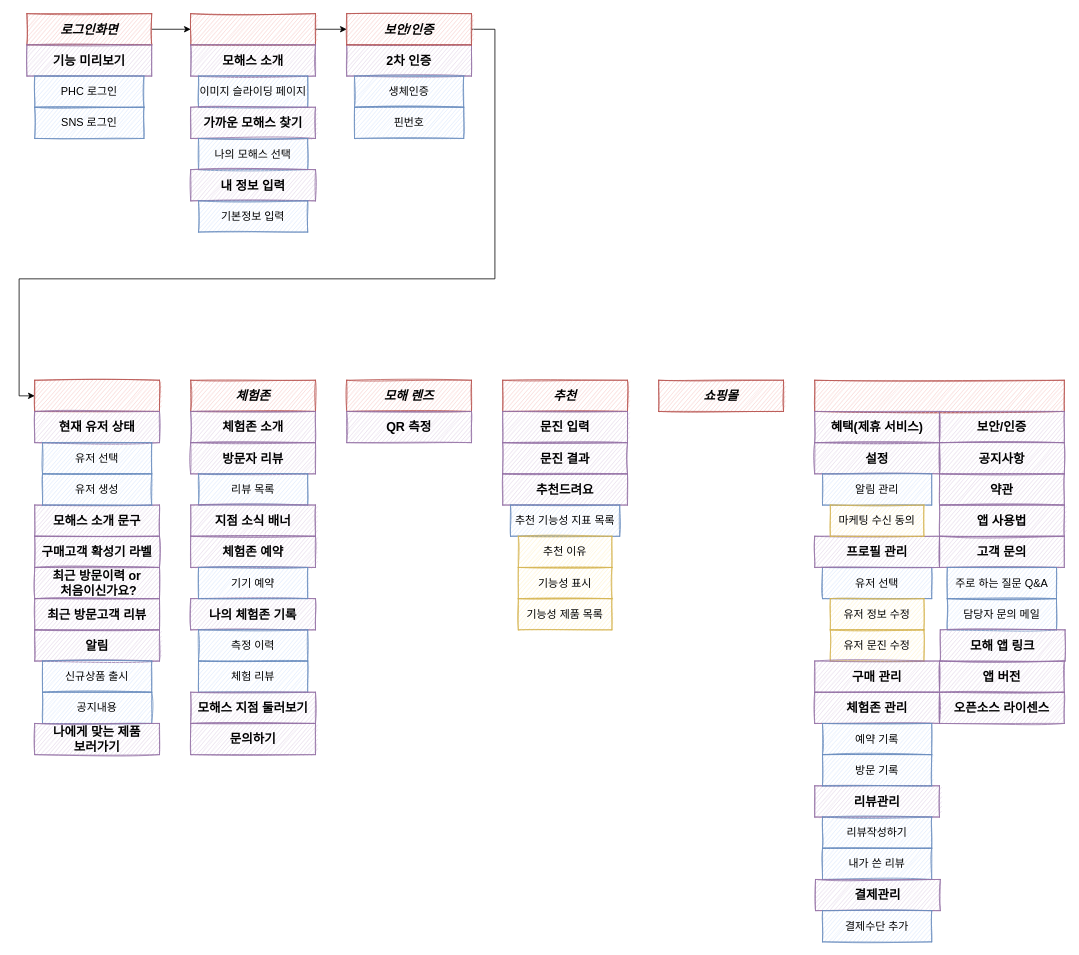
Some shapes in this 1079 by 955 pixel diagram are drawn without their labels. The centre of each missing label's shape, as x and y in pixels:
내 정보 관리: (x=939, y=395)
모해스 프리뷰: (x=253, y=29)
홈화면: (x=97, y=395)
